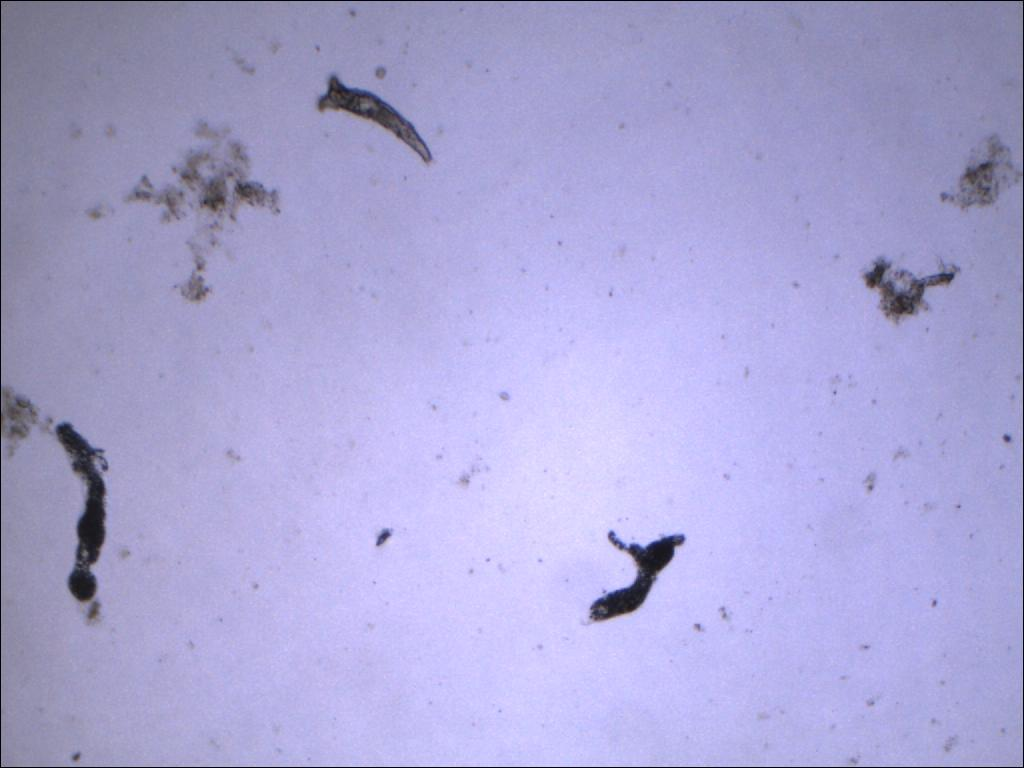amoeba: (49, 415, 122, 617), (578, 523, 694, 629)
